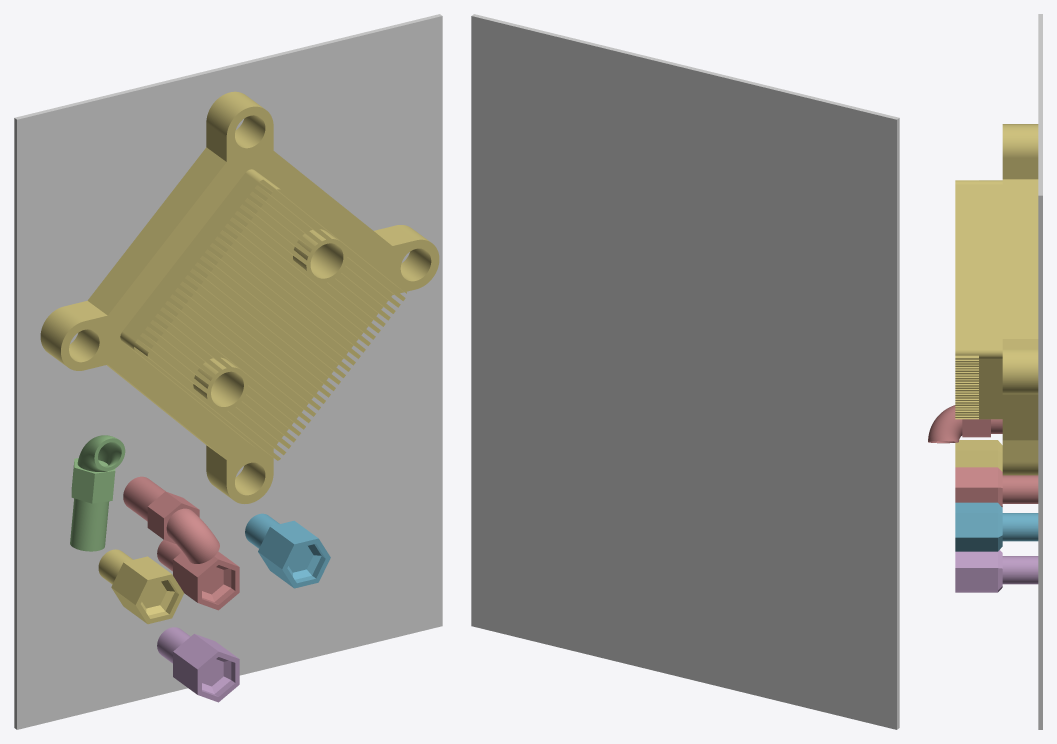
File: pickup_layout.glb
3 views of the same model, side by side, from view 1: azimuth 30°, elevation 25°; view 2: azimuth 150°, elevation 25°; view 3: azimuth 270°, elevation 25° (orthographic). The views are drawn at different scales.
Parts seen in each view (by area): view 1: world, 1.obj, 4.obj, 0.obj, 6.obj, 2.obj, 3.obj, 5.obj; view 2: world; view 3: 1.obj, world, 2.obj, 3.obj, 5.obj, 0.obj, 6.obj.
Boxes of the visible parts, left/top/right/bottom form: world: left=14, top=14, right=442, bottom=729; 1.obj: left=40, top=91, right=439, bottom=503; 4.obj: left=70, top=435, right=125, bottom=551; 0.obj: left=123, top=476, right=219, bottom=563; 6.obj: left=98, top=549, right=184, bottom=624; 2.obj: left=245, top=513, right=330, bottom=588; 3.obj: left=157, top=627, right=239, bottom=702; 5.obj: left=157, top=540, right=239, bottom=610; world: left=471, top=14, right=899, bottom=729; 1.obj: left=955, top=124, right=1038, bottom=475; world: left=1038, top=14, right=1042, bottom=729; 2.obj: left=955, top=502, right=1038, bottom=551; 3.obj: left=955, top=550, right=1038, bottom=592; 5.obj: left=955, top=467, right=1038, bottom=507; 0.obj: left=928, top=405, right=1002, bottom=443; 6.obj: left=955, top=440, right=1002, bottom=471.
Bounding box in the file's own units: 18.14 × 24.86 × 4.85.
